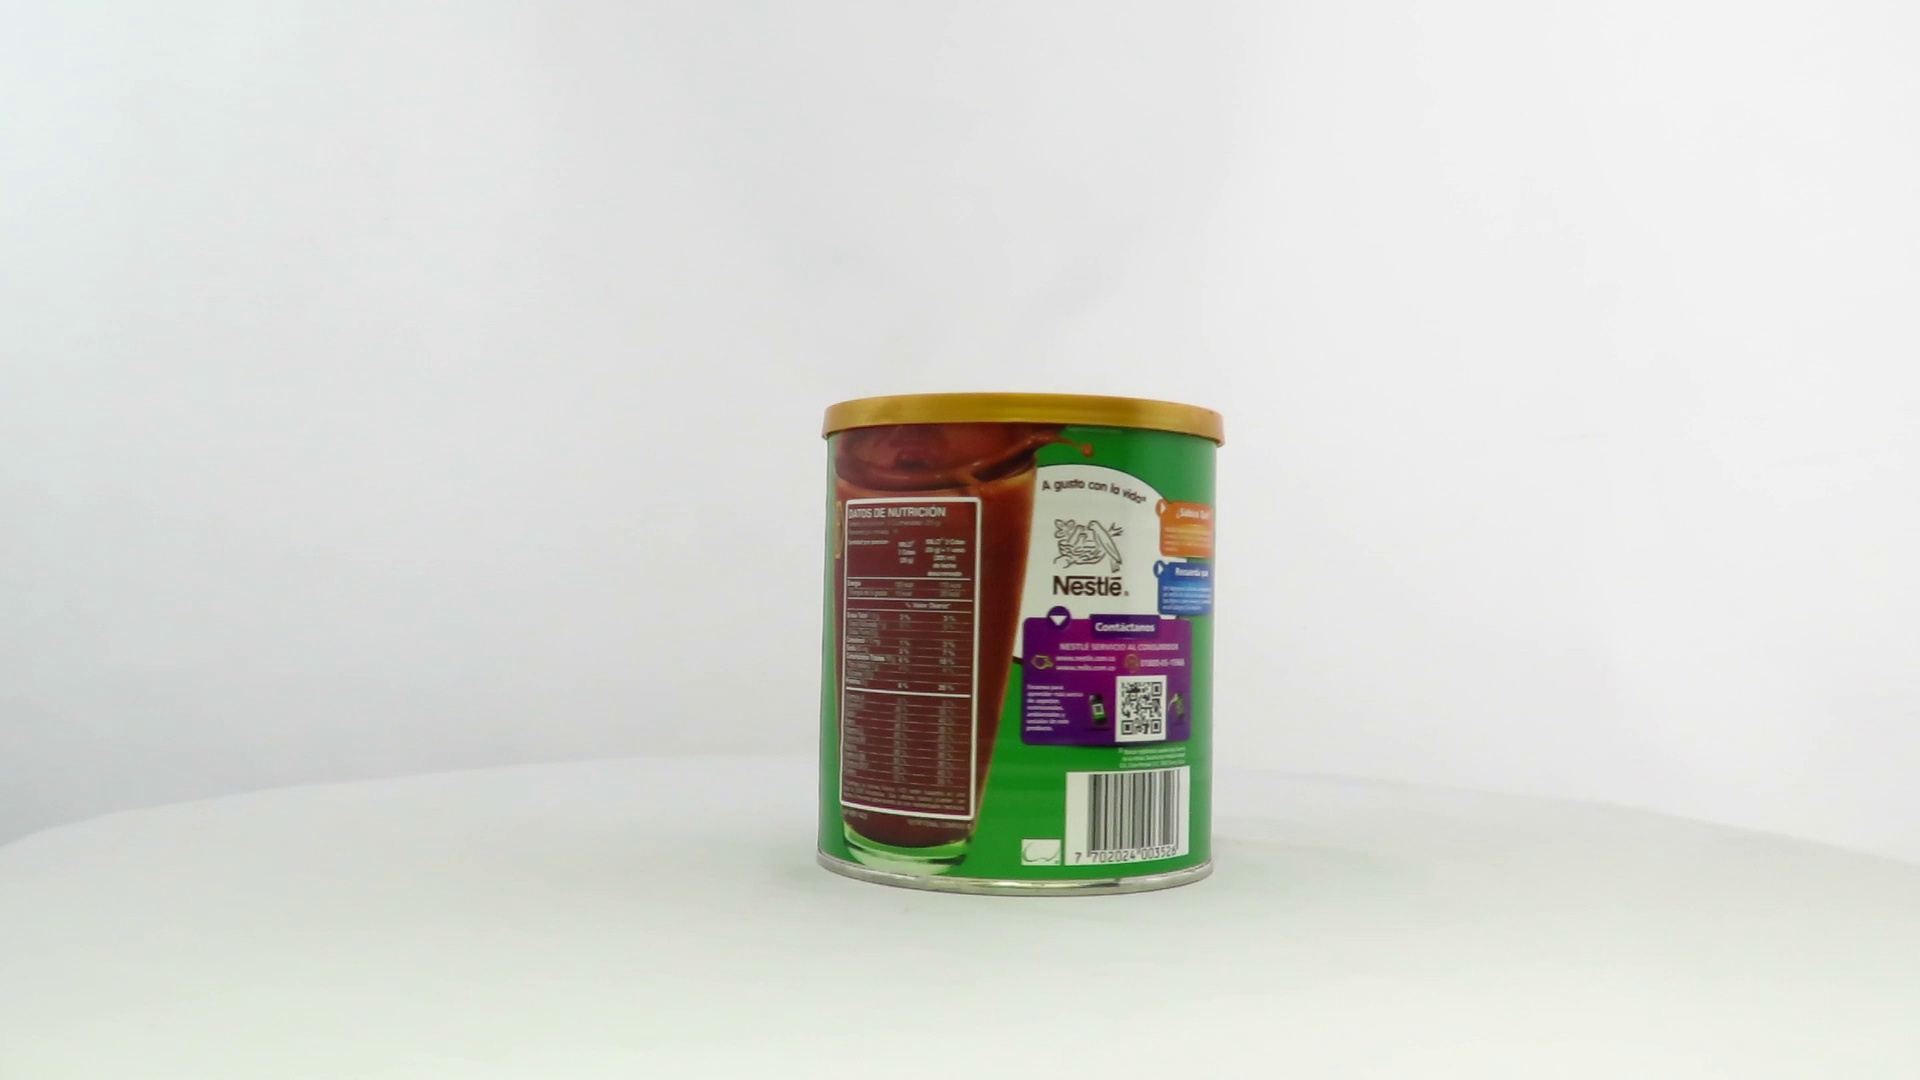COL0170203LAT40000: (811, 386, 1232, 905)
